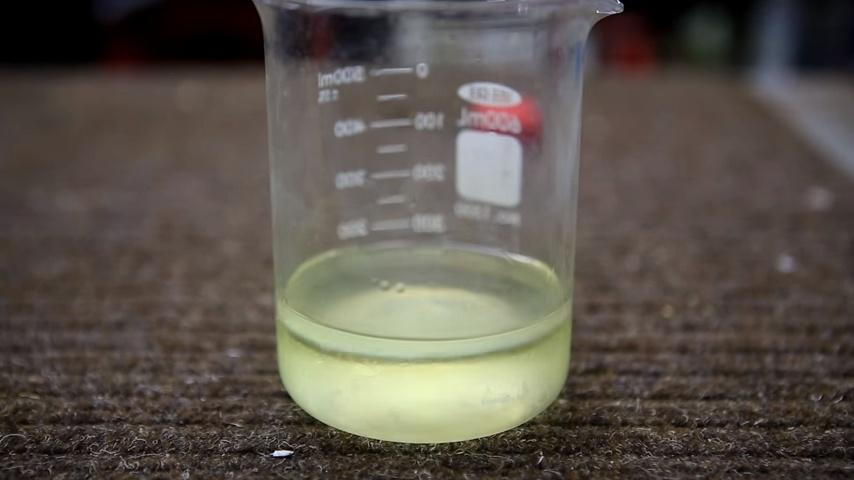Beaker: (241, 0, 629, 447)
